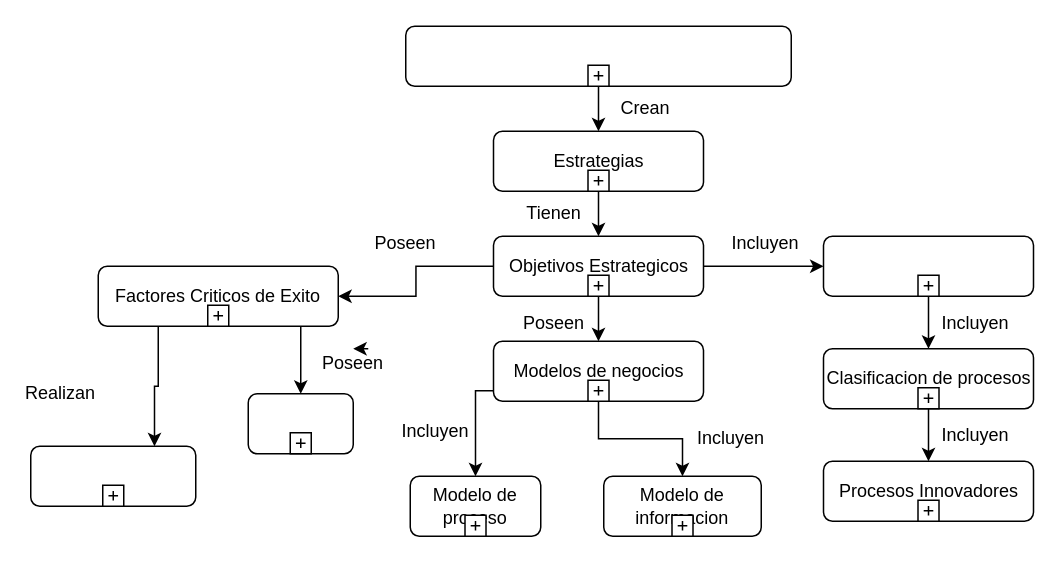
The diagram is 1061 pixels wide and 563 high, and some of its shapes have lost their labels. Each missing label, with the centre of its shape:
Alineación de TI con el negocio: [597,55]
Obstáculos: [300,423]
Procesos: [928,265]
Procesos Clave: [112,475]
